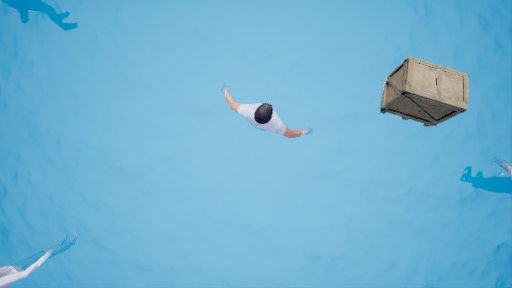person: (216, 84, 306, 149)
